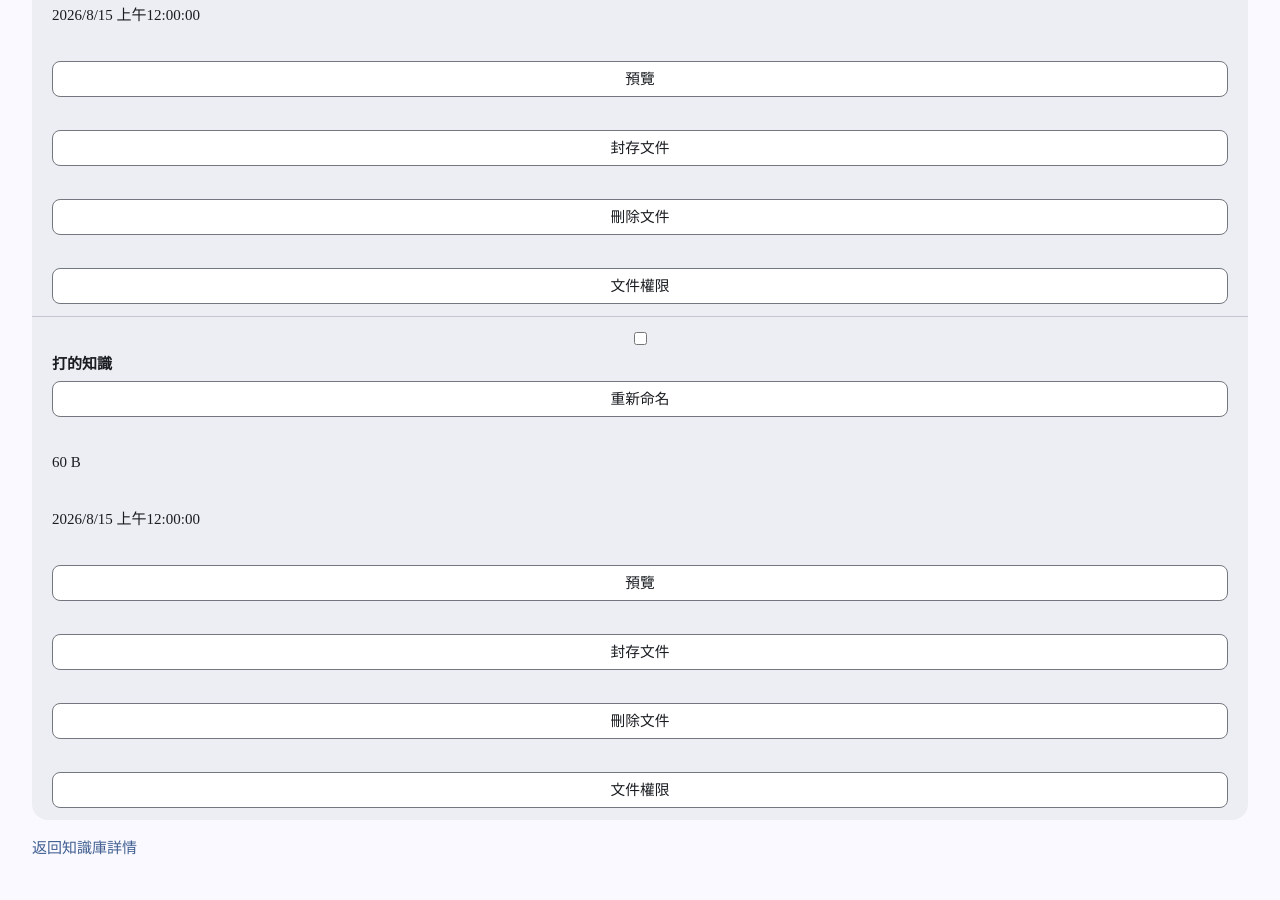
KnowledgeDocumentList — document preview (E05-S022) › shows a 預覽 toggle for every document, and expanding a text-sourced one reveals its real stored content
(page scrolled)
Click the button "預覽" below "打的知識": click(640, 583) [52,565,1228,601]
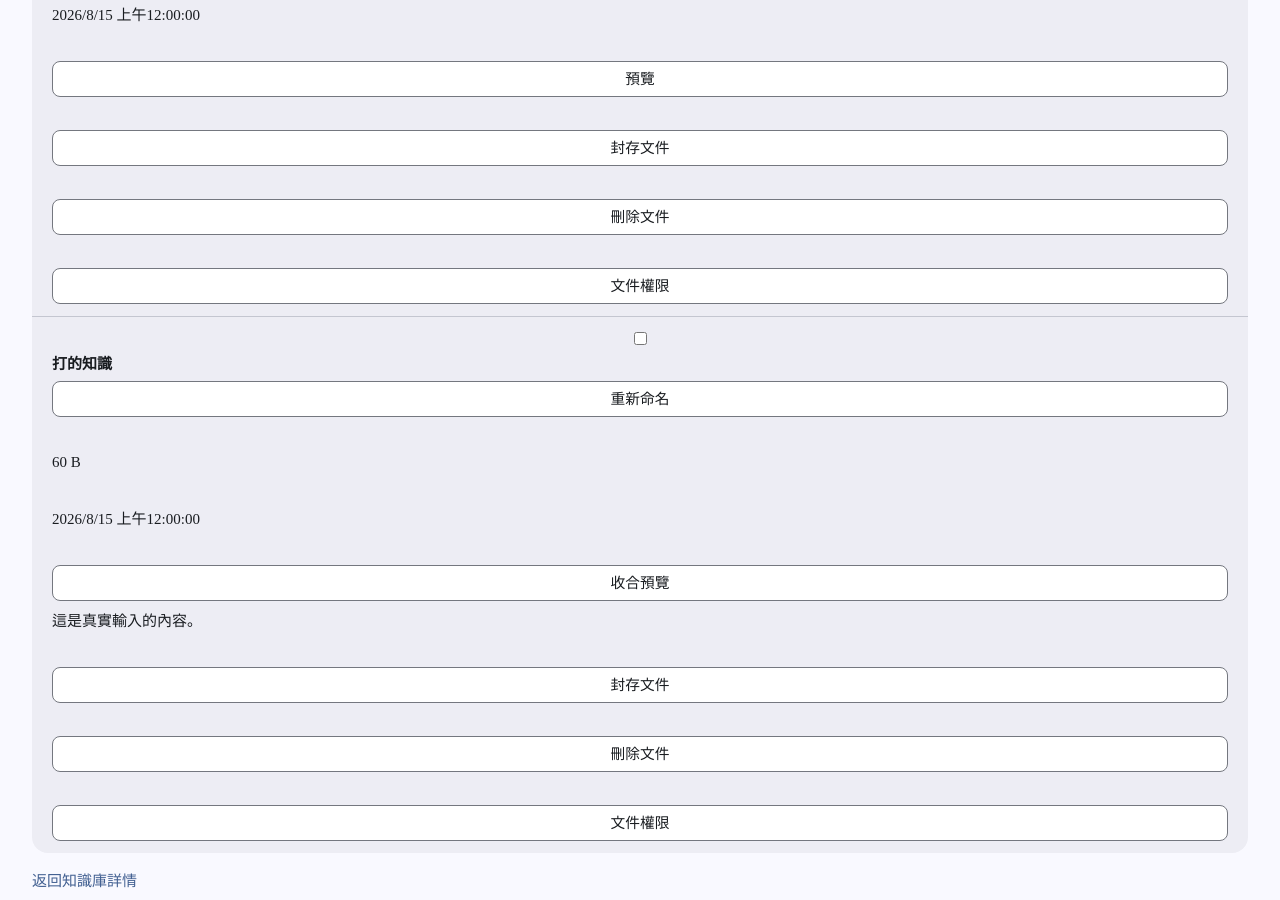
Check: the text "這是真實輸入的內容。" is shown, box [52,612,202,630]
